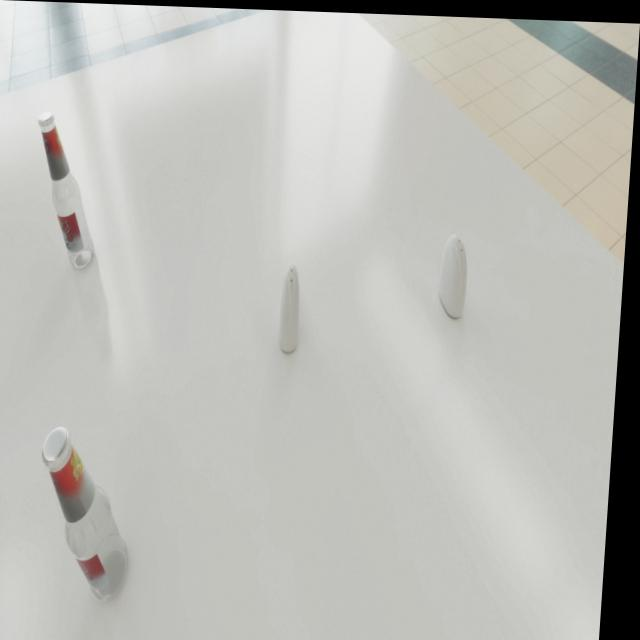Bottle: (40, 426, 144, 601), (32, 110, 106, 269)
Salt: (442, 230, 473, 314), (281, 260, 308, 350)
